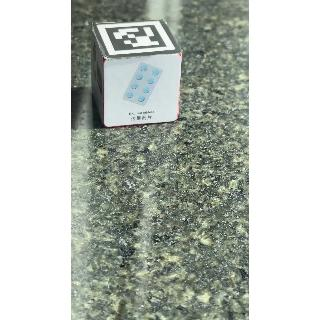Tablet: (104, 55, 183, 125)
